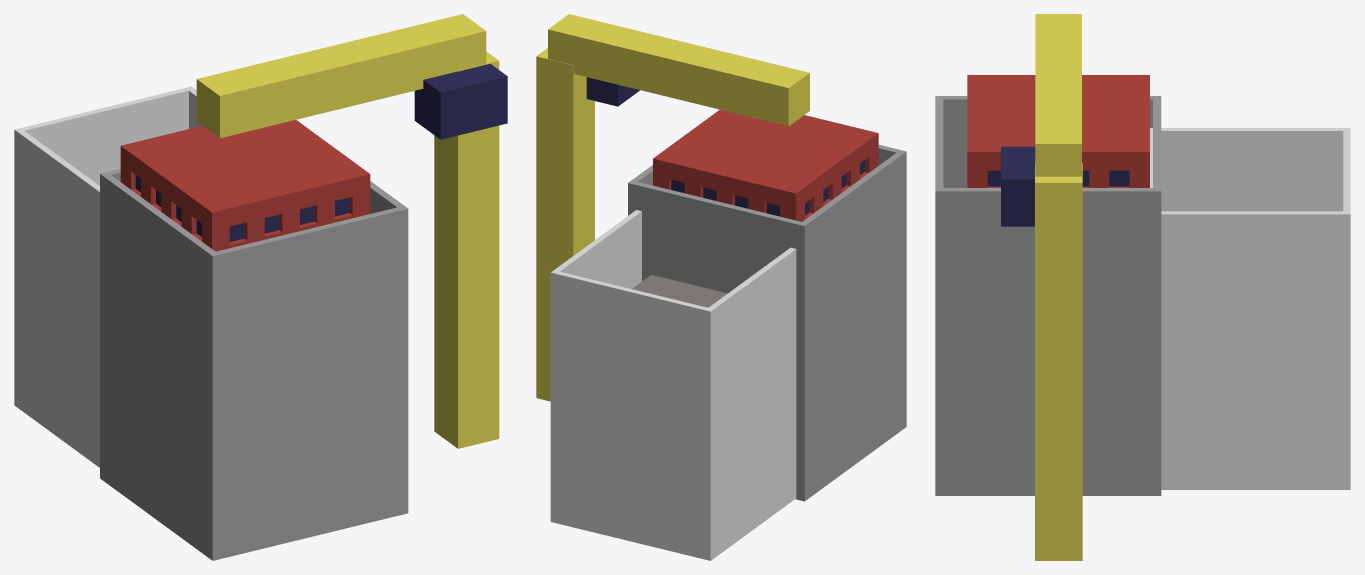
File: Neuzeit6.fbx
3 views of the same model, side by side, from view 1: azimuth 30°, elevation 25°; view 2: azimuth 150°, elevation 25°; view 3: azimuth 270°, elevation 25° (orthographic). The views are drawn at different scales.
Visible parts, largest first — view 1: Overlay1, Overlay2, Cube.001, Kran1, Kran2, Kran3, Innen1; view 2: Overlay2, Overlay1, Cube.001, Kran2, Kran1, Haus2, Kran3, Innen1; view 3: Overlay2, Overlay1, Kran1, Cube.001, Kran2, Kran3, Innen1.
Part boxes in pixels (box(x1,y1,x2,y2)): Overlay1: box(100, 168, 408, 560); Overlay2: box(14, 86, 202, 467); Cube.001: box(120, 120, 370, 251); Kran1: box(434, 51, 499, 448); Kran2: box(196, 14, 486, 138); Kran3: box(414, 63, 507, 139); Innen1: box(135, 175, 349, 241); Overlay2: box(550, 210, 796, 560); Overlay1: box(628, 144, 906, 501); Cube.001: box(653, 109, 878, 221); Kran2: box(548, 14, 809, 126); Kran1: box(536, 48, 594, 401); Haus2: box(632, 274, 727, 307); Kran3: box(586, 77, 639, 106); Innen1: box(671, 160, 864, 216); Overlay2: box(1150, 128, 1350, 489); Overlay1: box(935, 96, 1161, 495); Kran1: box(1035, 163, 1082, 560); Cube.001: box(967, 75, 1149, 187); Kran2: box(1035, 14, 1081, 176); Kran3: box(1001, 146, 1035, 226); Innen1: box(987, 170, 1129, 186).
Bounding box in the file's own units: 425 × 501 × 455.
